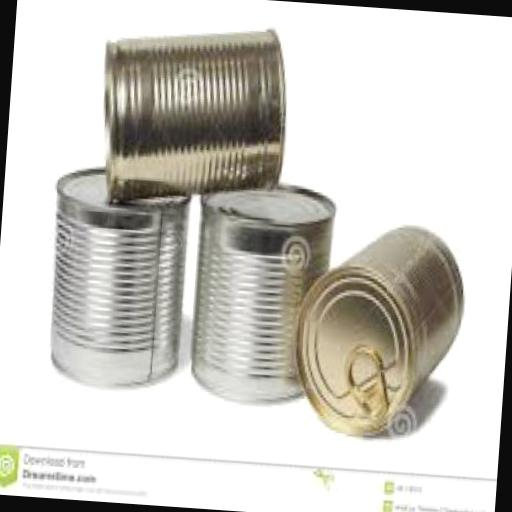metal: (288, 215, 468, 438), (93, 15, 292, 216), (185, 176, 336, 406), (40, 164, 191, 391)
